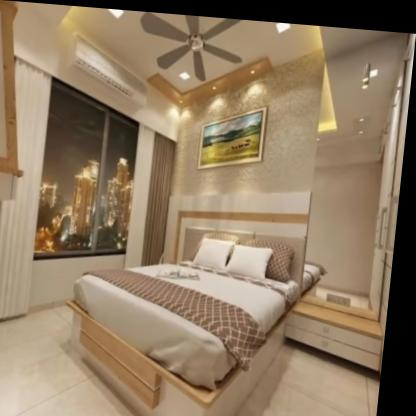Bed: (67, 200, 303, 416)
Nightstand: (290, 276, 395, 370)
